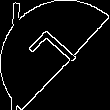L_SE: (25, 26, 85, 84)
